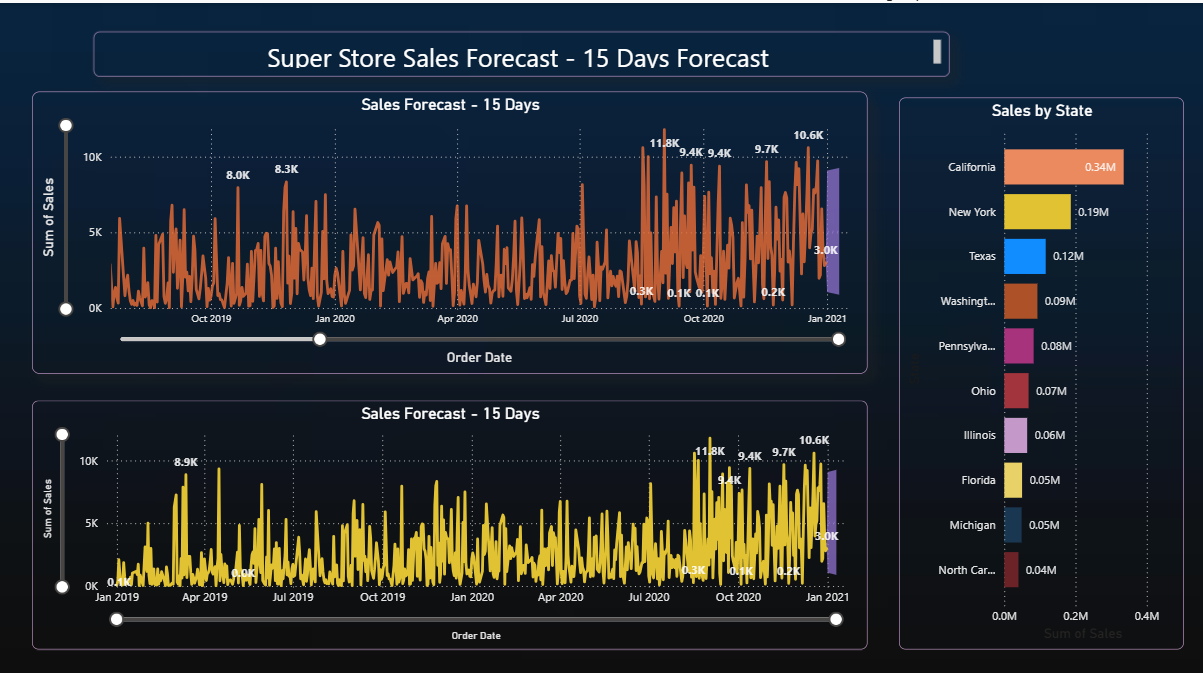

What the dashboard file says about the page in this screenshot:
{"tool":"powerbi","page":{"name":"Page 2","canvas":[1280,720],"ordinal":1},"visuals":[{"type":"lineChart","title":"Sales Forecast - 15 Days","fields":{"Y":["Sum(Sheet1.Sales)"],"Category":["Sheet1.Order Date"]},"box":[35,421.5,886,264],"z":0},{"type":"clusteredBarChart","title":"Sales by State","fields":{"Y":["Sum(Sheet1.Sales)"],"Category":["Sheet1.State"]},"box":[954.4,100.2,302.2,585.3],"z":1000},{"type":"lineChart","title":"Sales Forecast - 15 Days","fields":{"Y":["Sum(Sheet1.Sales)"],"Category":["Sheet1.Order Date"]},"box":[35,93.8,886,299],"z":2000},{"type":"textbox","box":[100.2,30.2,908.2,47.7],"z":3000}]}

Visuals, with their boxes in screenshot pixels (x1, y1, x2, y2), scaled from the page's 1280x720 canvas onto the 1203x673 screenshot:
"Sales Forecast - 15 Days" lineChart: [x1=33, y1=394, x2=866, y2=641]
"Sales by State" clusteredBarChart: [x1=897, y1=94, x2=1181, y2=641]
"Sales Forecast - 15 Days" lineChart: [x1=33, y1=88, x2=866, y2=367]
textbox: [x1=94, y1=28, x2=948, y2=73]
